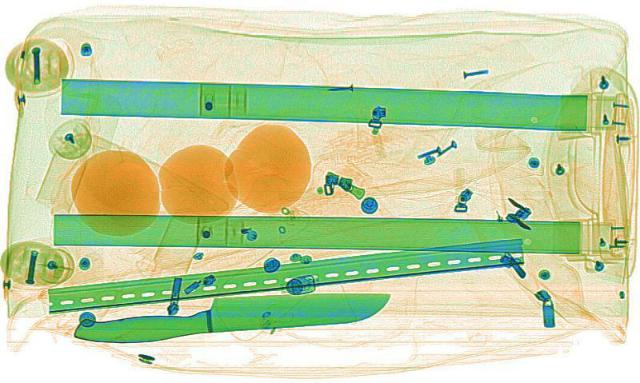Knife: (67, 279, 397, 347)
